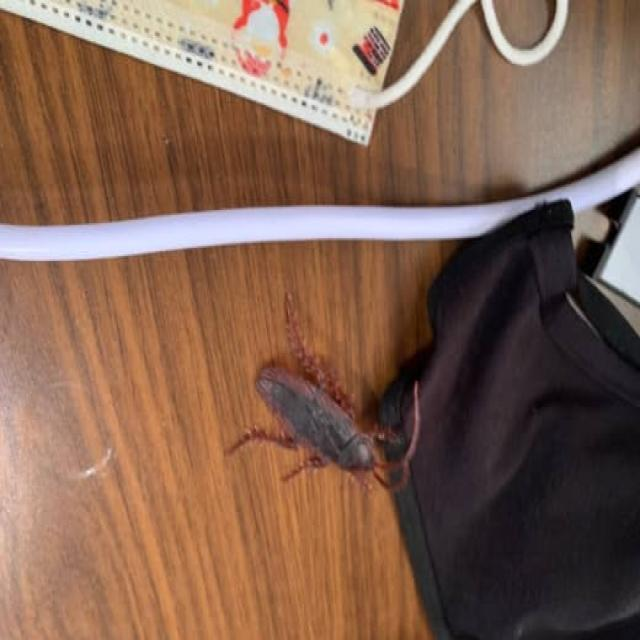Cockroach: (220, 292, 427, 496)
